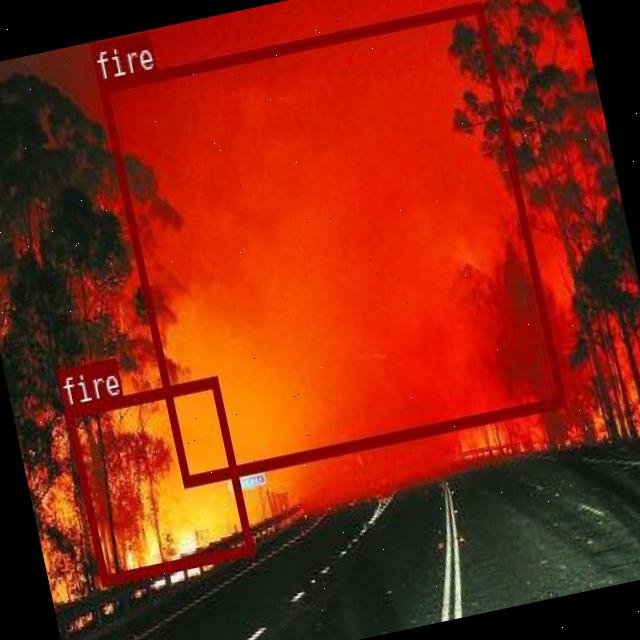fire: (97, 0, 565, 486), (64, 375, 253, 585)
